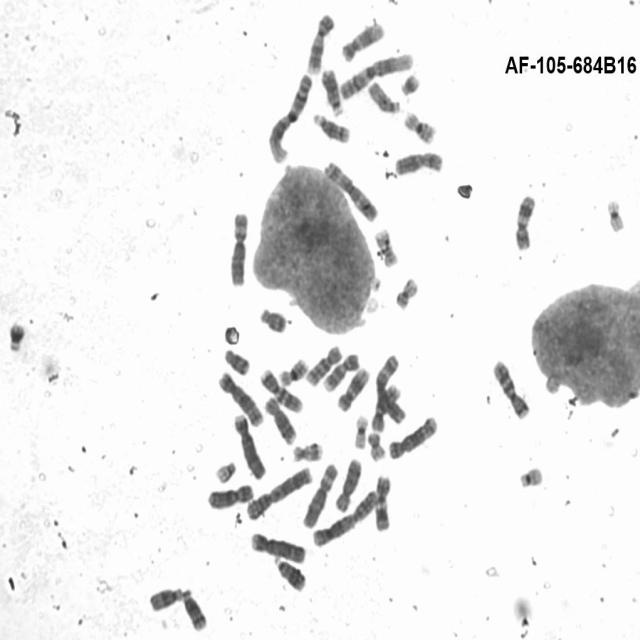A1: (266, 68, 314, 164), (336, 47, 416, 101)
A2: (310, 486, 380, 548), (244, 462, 315, 521)
A3: (320, 156, 380, 222), (373, 350, 408, 426)
B4: (230, 410, 267, 480), (248, 527, 307, 565)
B5: (215, 367, 265, 428), (386, 412, 440, 460)
C10: (303, 341, 343, 388), (368, 382, 402, 432)
C11: (511, 190, 538, 252), (372, 471, 394, 533)
C12: (337, 17, 386, 63), (334, 363, 372, 413)
C6: (300, 458, 340, 530), (226, 207, 250, 289)
C7: (489, 354, 531, 420), (258, 365, 304, 413)
C8: (261, 393, 298, 446), (332, 453, 364, 513)
C9: (304, 8, 336, 75), (321, 347, 362, 393)
D13: (318, 63, 345, 117), (272, 552, 308, 592)
D14: (310, 108, 352, 144), (179, 584, 209, 633)
D15: (365, 77, 402, 115), (145, 581, 185, 612)
E16: (400, 106, 438, 146), (275, 353, 309, 388)
E17: (372, 230, 405, 272), (290, 438, 324, 463)
E18: (256, 302, 288, 334), (222, 344, 252, 376)
F19: (604, 194, 626, 233), (350, 410, 370, 450)
F20: (392, 274, 420, 310), (364, 427, 388, 462)
G21: (4, 317, 28, 354), (397, 68, 422, 97)
G22: (516, 461, 545, 489), (212, 456, 238, 484)
X: (391, 146, 445, 177), (204, 479, 255, 511)
